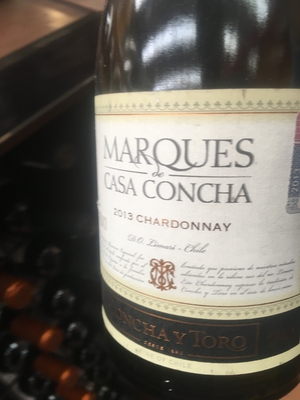marques de casa concha chardonnay: (83, 10, 300, 399)
